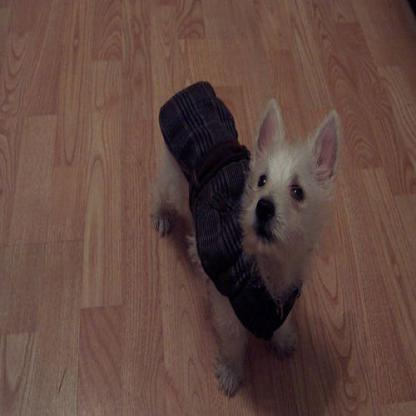dog: (152, 77, 336, 398)
